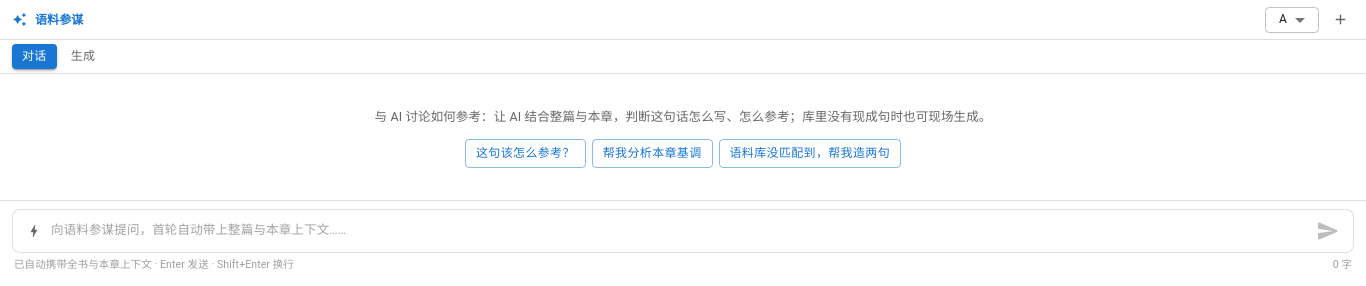
Test: AI 语料参谋 · 生成飞行中切书（数据污染回归锁） › 零回归：不切书的正常生成结果照常固化（与既有 Generate 锁互补）
What coordinates should you click on to do the following:
click the button "生成"
I would click on:
 (83, 56)
Its box is [61,44,105,69].
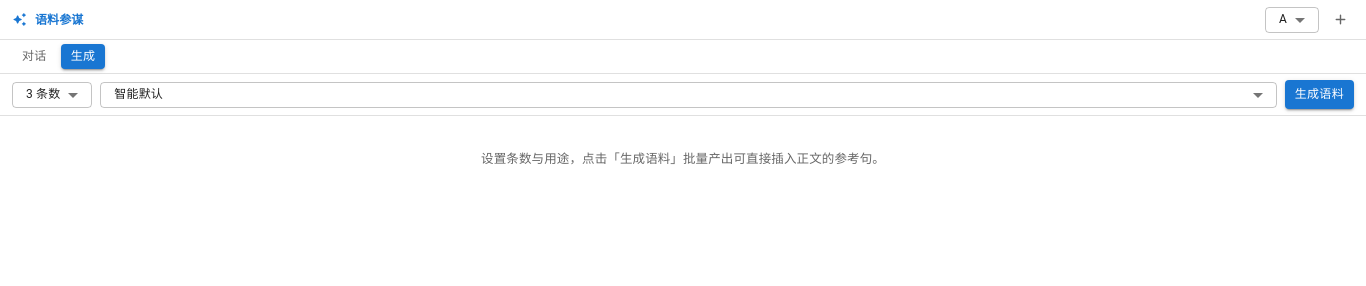
What coordinates should you click on to do the following:
click the button "生成语料"
I would click on:
 (1319, 94)
Its box is [1285,80,1354,109].
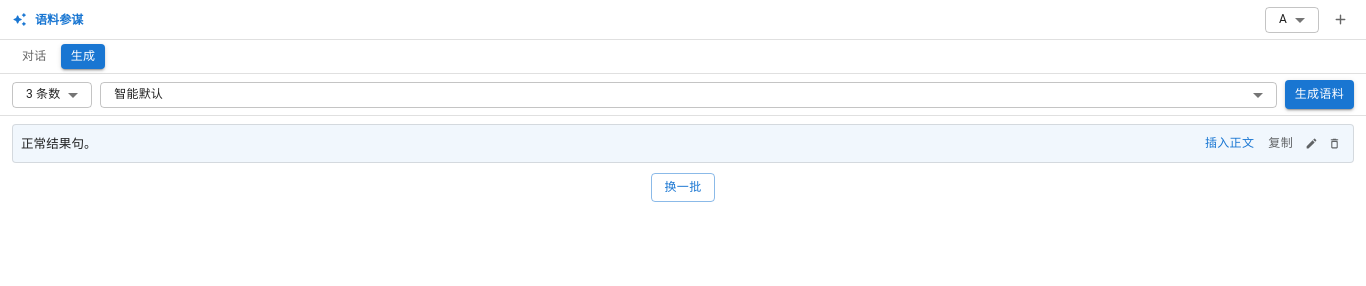
Expected: the element with test id "ai-corpus-gen-" shows "正常结果句", [21,136,97,150]
